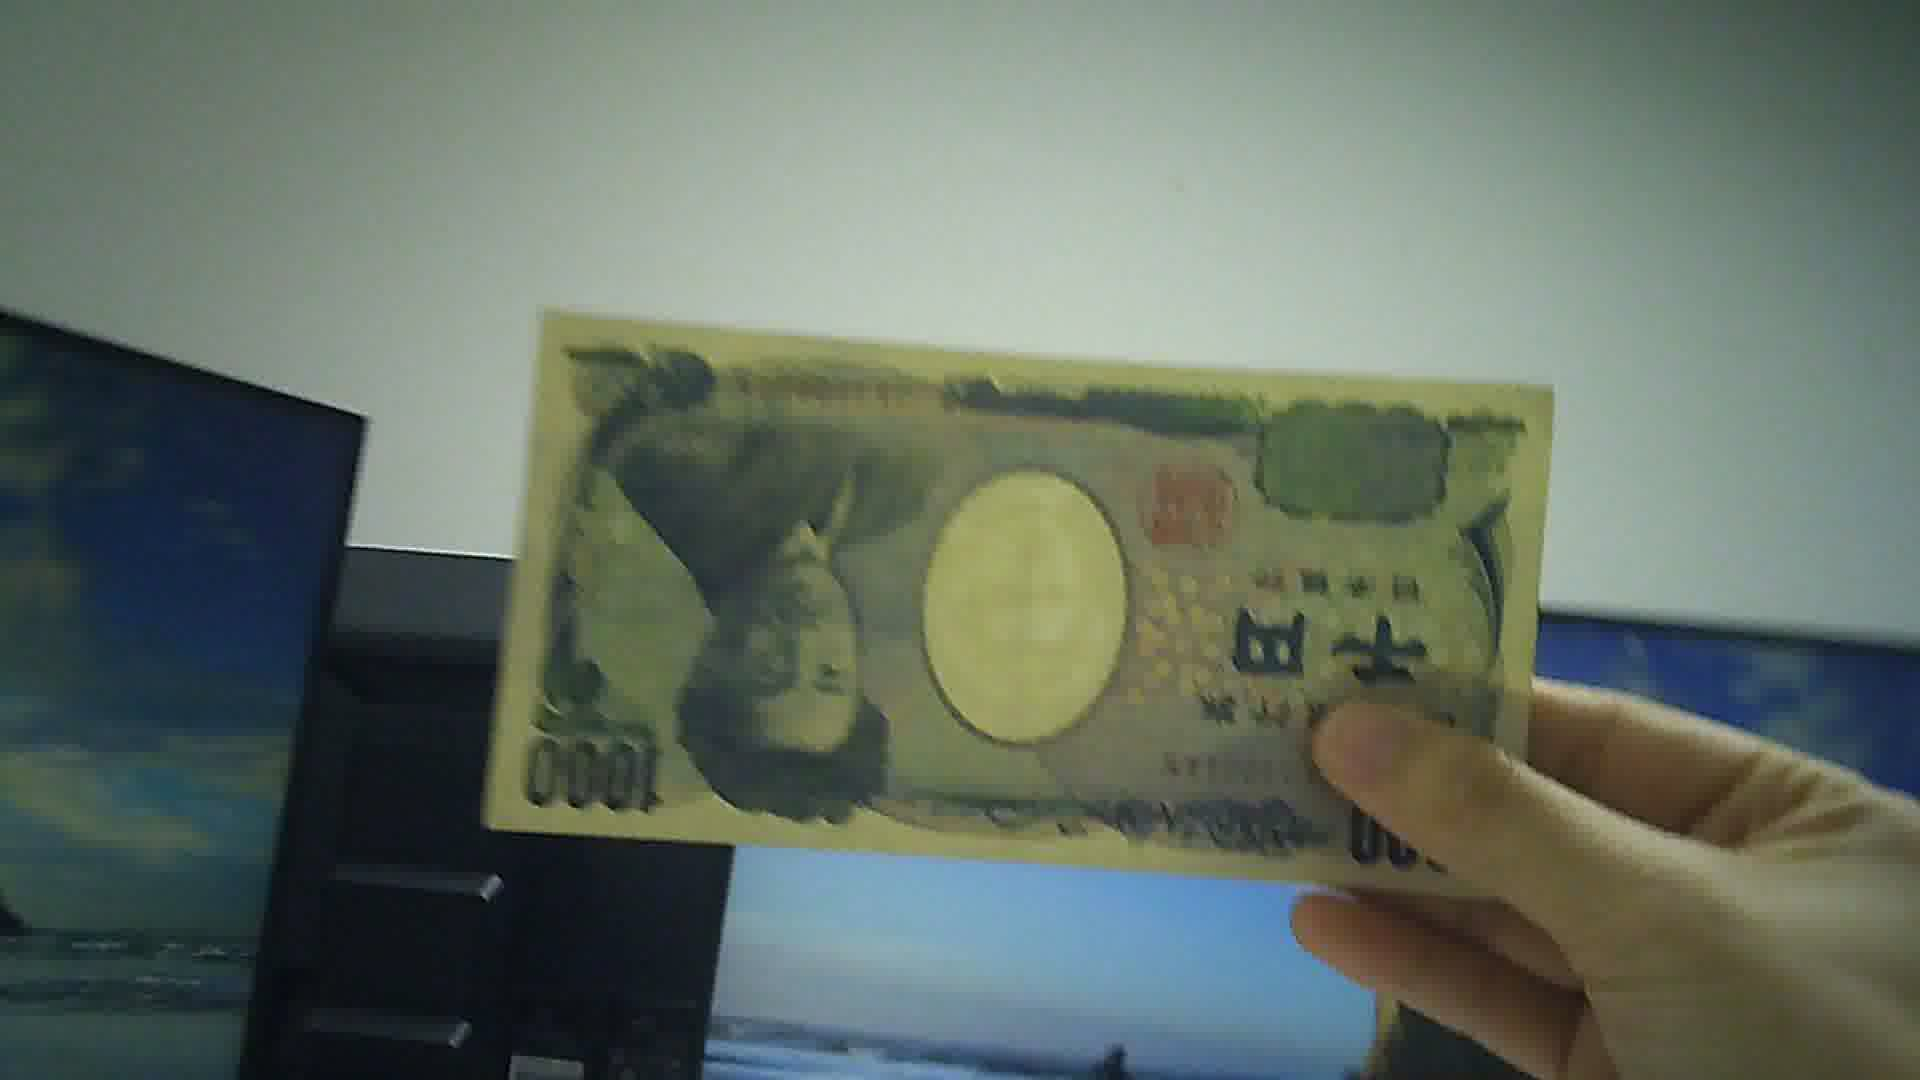1,000 Yen: (505, 301, 1542, 895)
